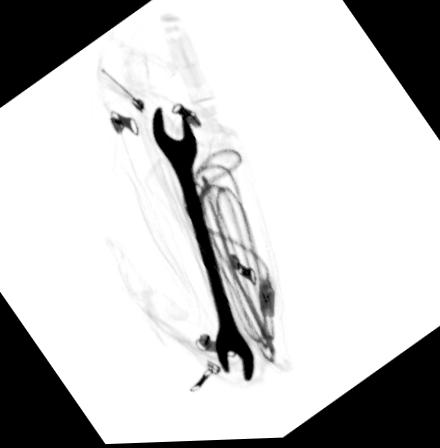Wrench: (150, 105, 253, 383)
